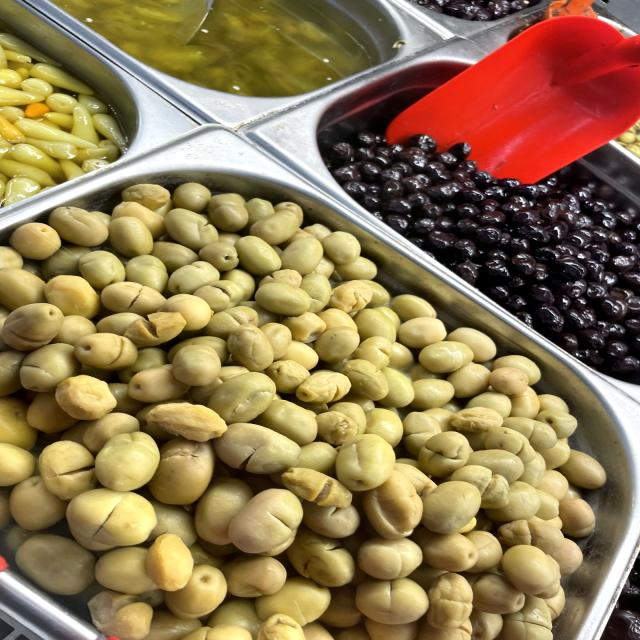olive: (473, 211, 631, 294), (528, 297, 577, 337)
